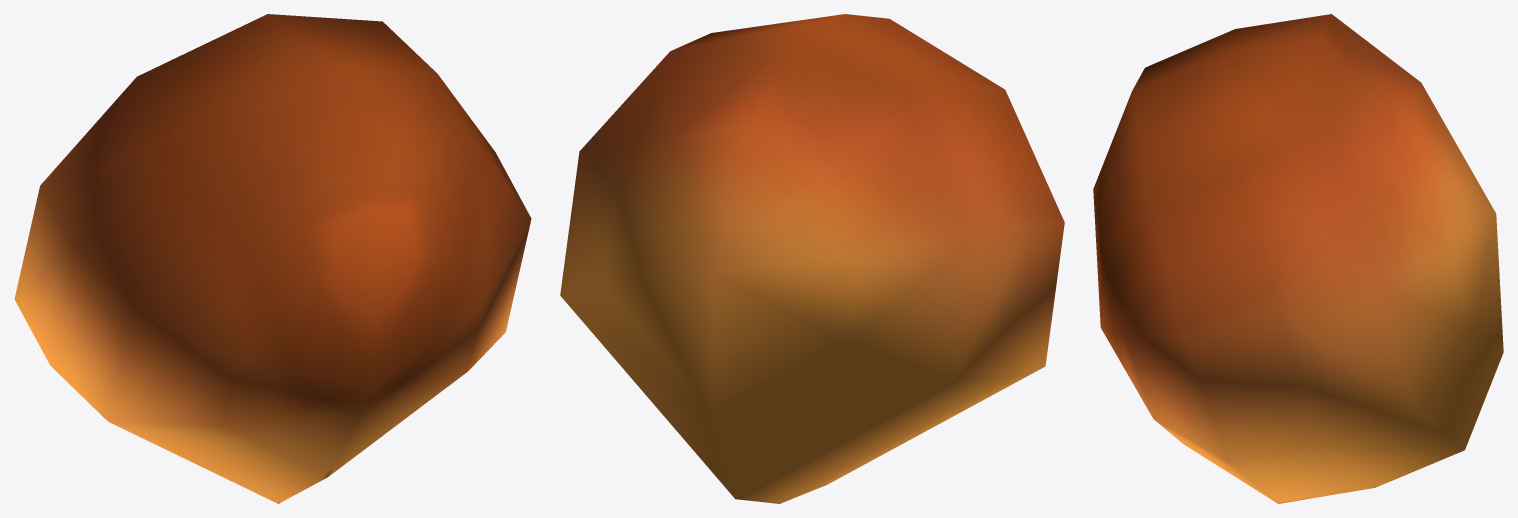
Rendered from hair_afro_mesh.fbx.
The picture shows the model from 3 angles, left to right: view 1: azimuth 30°, elevation 25°; view 2: azimuth 150°, elevation 25°; view 3: azimuth 270°, elevation 25°; orthographic projection.
Parts seen in each view (by area): view 1: hair_afro_mesh; view 2: hair_afro_mesh; view 3: hair_afro_mesh.
Part boxes in pixels (bbox=[...]): hair_afro_mesh: bbox=[14, 14, 531, 503]; hair_afro_mesh: bbox=[560, 14, 1064, 503]; hair_afro_mesh: bbox=[1093, 14, 1503, 503].
Size of the model in its own units: 26.17 by 27.94 by 22.05.
